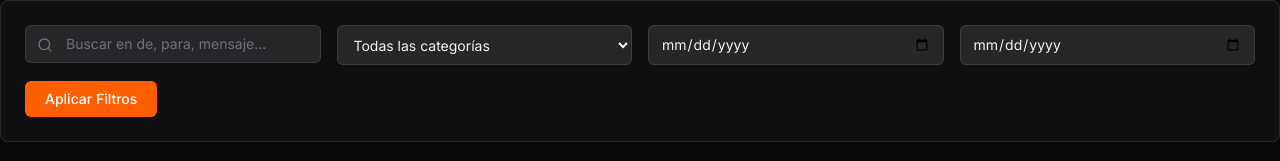
Scenario: KudoFilters › muestra botón "Limpiar" cuando hay filtros activos
Step 1. Select "Innovation" in the dropdown named "Filtrar por categoría" → (484, 45), box [336,25,632,65]
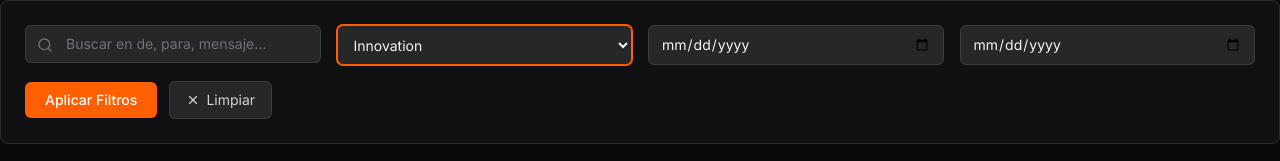
Result: the button "Limpiar" is shown at [169,81,272,119]
